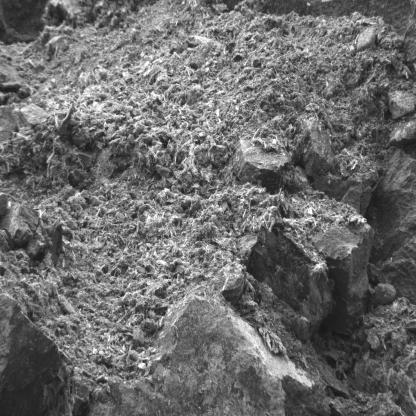stone: (242, 225, 332, 343), (312, 222, 373, 336), (233, 140, 289, 190), (386, 118, 416, 148), (11, 106, 52, 127), (389, 90, 416, 121), (356, 27, 376, 51)
